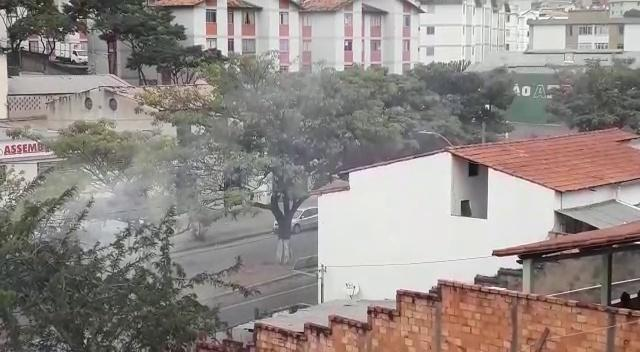smoke: (99, 178, 146, 221)
